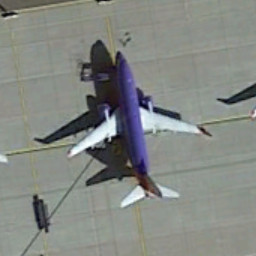Airplane: (61, 34, 212, 214)
